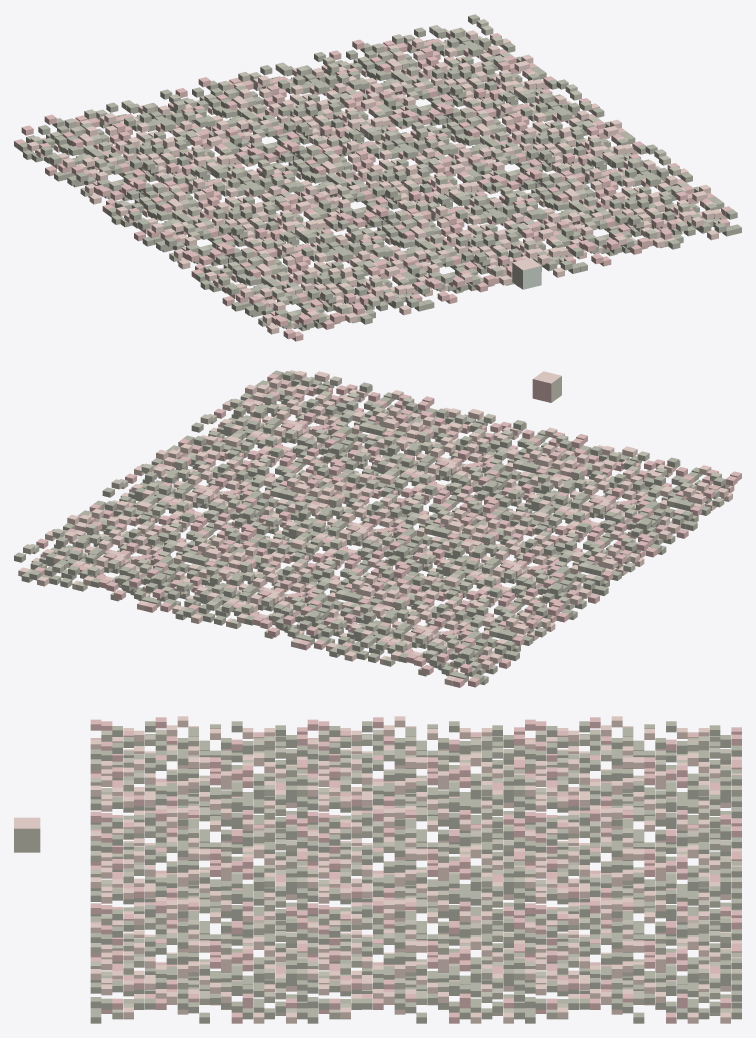
The model's file is cubesenvironment.fbx.
3 renders of one model, top to bottom at view 1: azimuth 30°, elevation 25°; view 2: azimuth 150°, elevation 25°; view 3: azimuth 270°, elevation 25°, orthographic. The views are drawn at different scales.
Visible parts, largest first — view 1: Plane; view 2: Plane; view 3: Plane.
Part boxes in pixels (left/top/right/bottom): Plane: left=14, top=14, right=741, bottom=341; Plane: left=14, top=370, right=741, bottom=687; Plane: left=14, top=716, right=741, bottom=1023.
Size of the model in its own units: 234515 by 23159 by 262097.
1 material, 1 textured.
